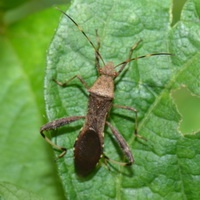insect: (40, 9, 173, 175)
